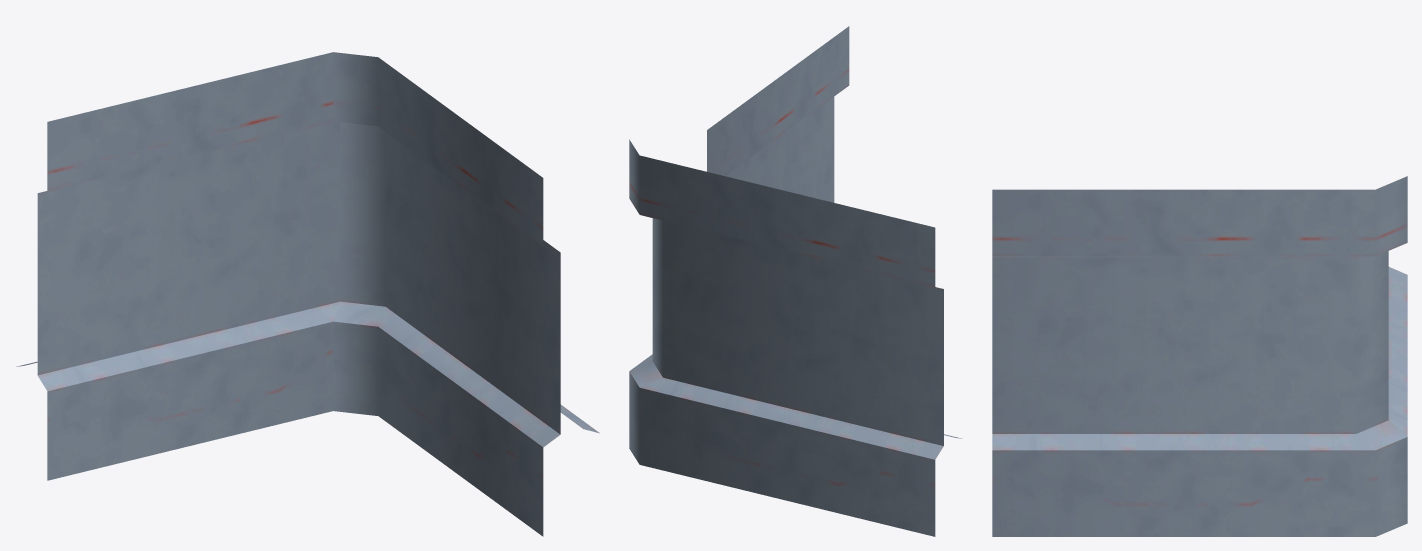
File: Wall_Corner_1_F.glb
3 views of the same model, side by side, from view 1: azimuth 30°, elevation 25°; view 2: azimuth 150°, elevation 25°; view 3: azimuth 270°, elevation 25° (orthographic). The views are drawn at different scales.
Visible parts, largest first — view 1: Wall_Corner_1_F; view 2: Wall_Corner_1_F; view 3: Wall_Corner_1_F.
Part boxes in pixels (bbox=[...]): Wall_Corner_1_F: bbox=[16, 52, 599, 536]; Wall_Corner_1_F: bbox=[629, 26, 962, 536]; Wall_Corner_1_F: bbox=[992, 176, 1407, 536].
Bounding box in the file's own units: 6.5 × 6 × 6.5.
1 material, 1 textured.
